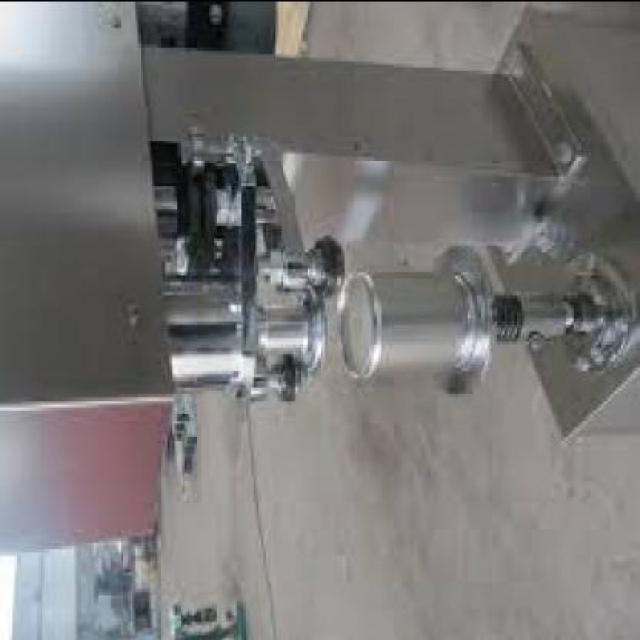METAL: (0, 1, 175, 396), (143, 45, 554, 168), (532, 3, 638, 349), (148, 158, 554, 244), (0, 395, 172, 550), (337, 267, 475, 376), (163, 284, 320, 379), (566, 326, 637, 436), (258, 241, 336, 284)
